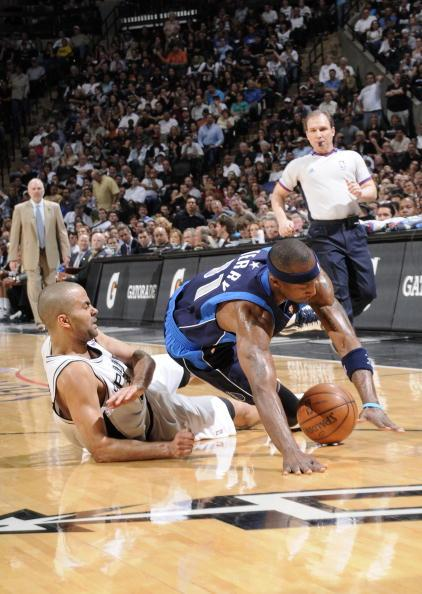bending: (166, 242, 402, 470)
down: (35, 277, 264, 466)
up: (267, 108, 380, 348), (7, 170, 75, 335)
